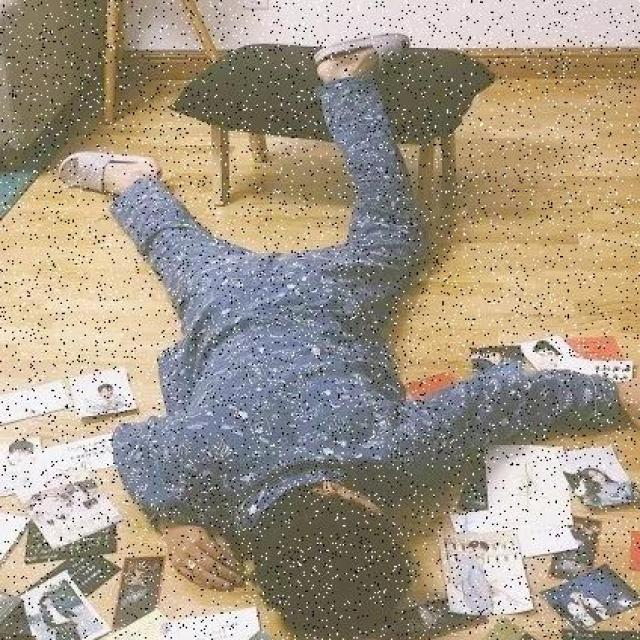fall: (132, 59, 496, 604)
